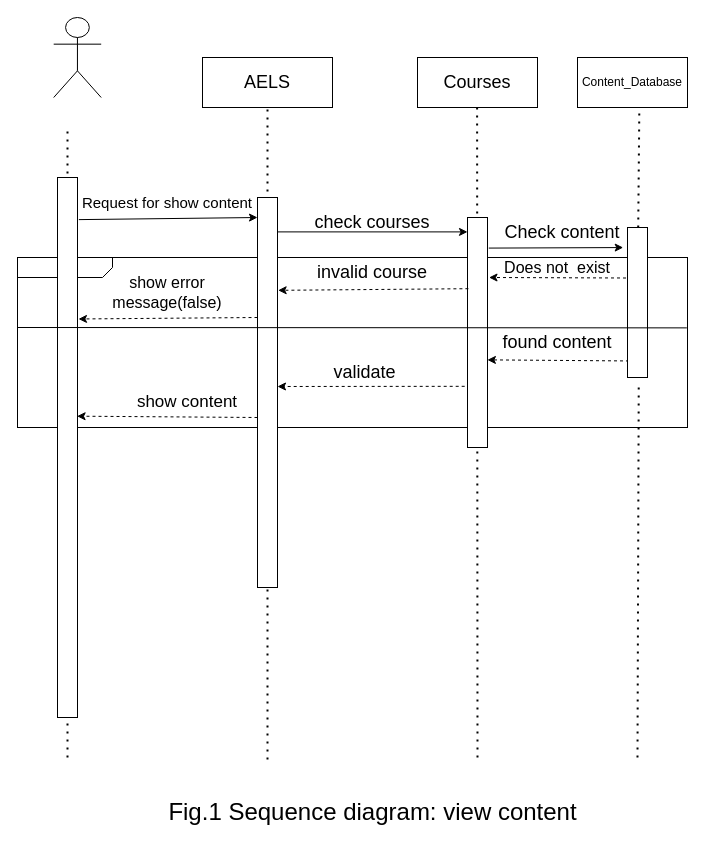
Some shapes in this 706 by 845 pixel diagram are drawn without their labels. Each missing label, with the box of its shape:
alt: (16, 256, 688, 428)
Student: (53, 16, 101, 98)
